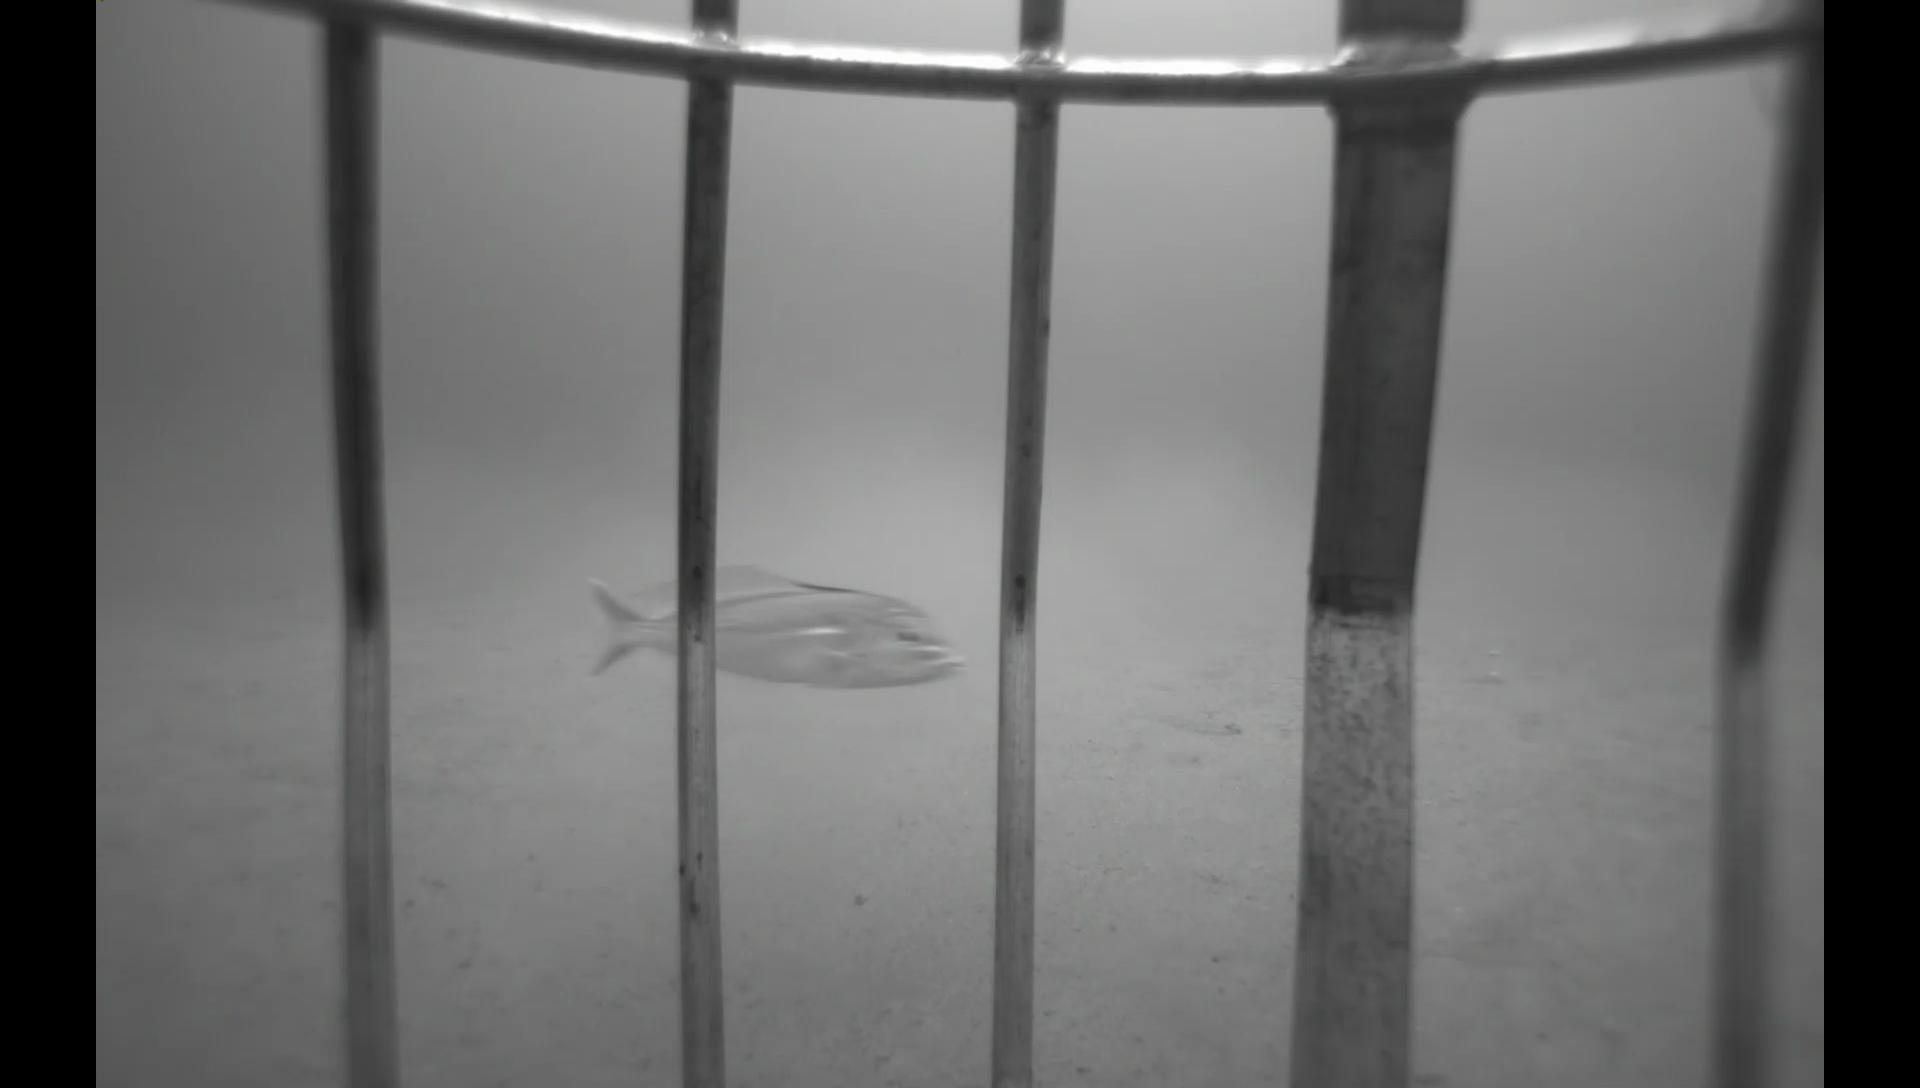CAULOLATILUSCYANOPS-170070101: (560, 559, 978, 698)
SYACIUM-183011000: (1143, 699, 1249, 742)
